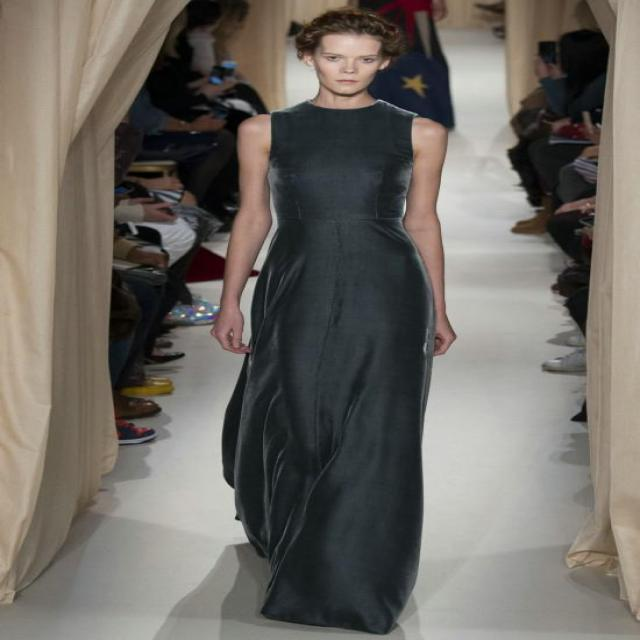Manusia: (179, 0, 519, 640)
